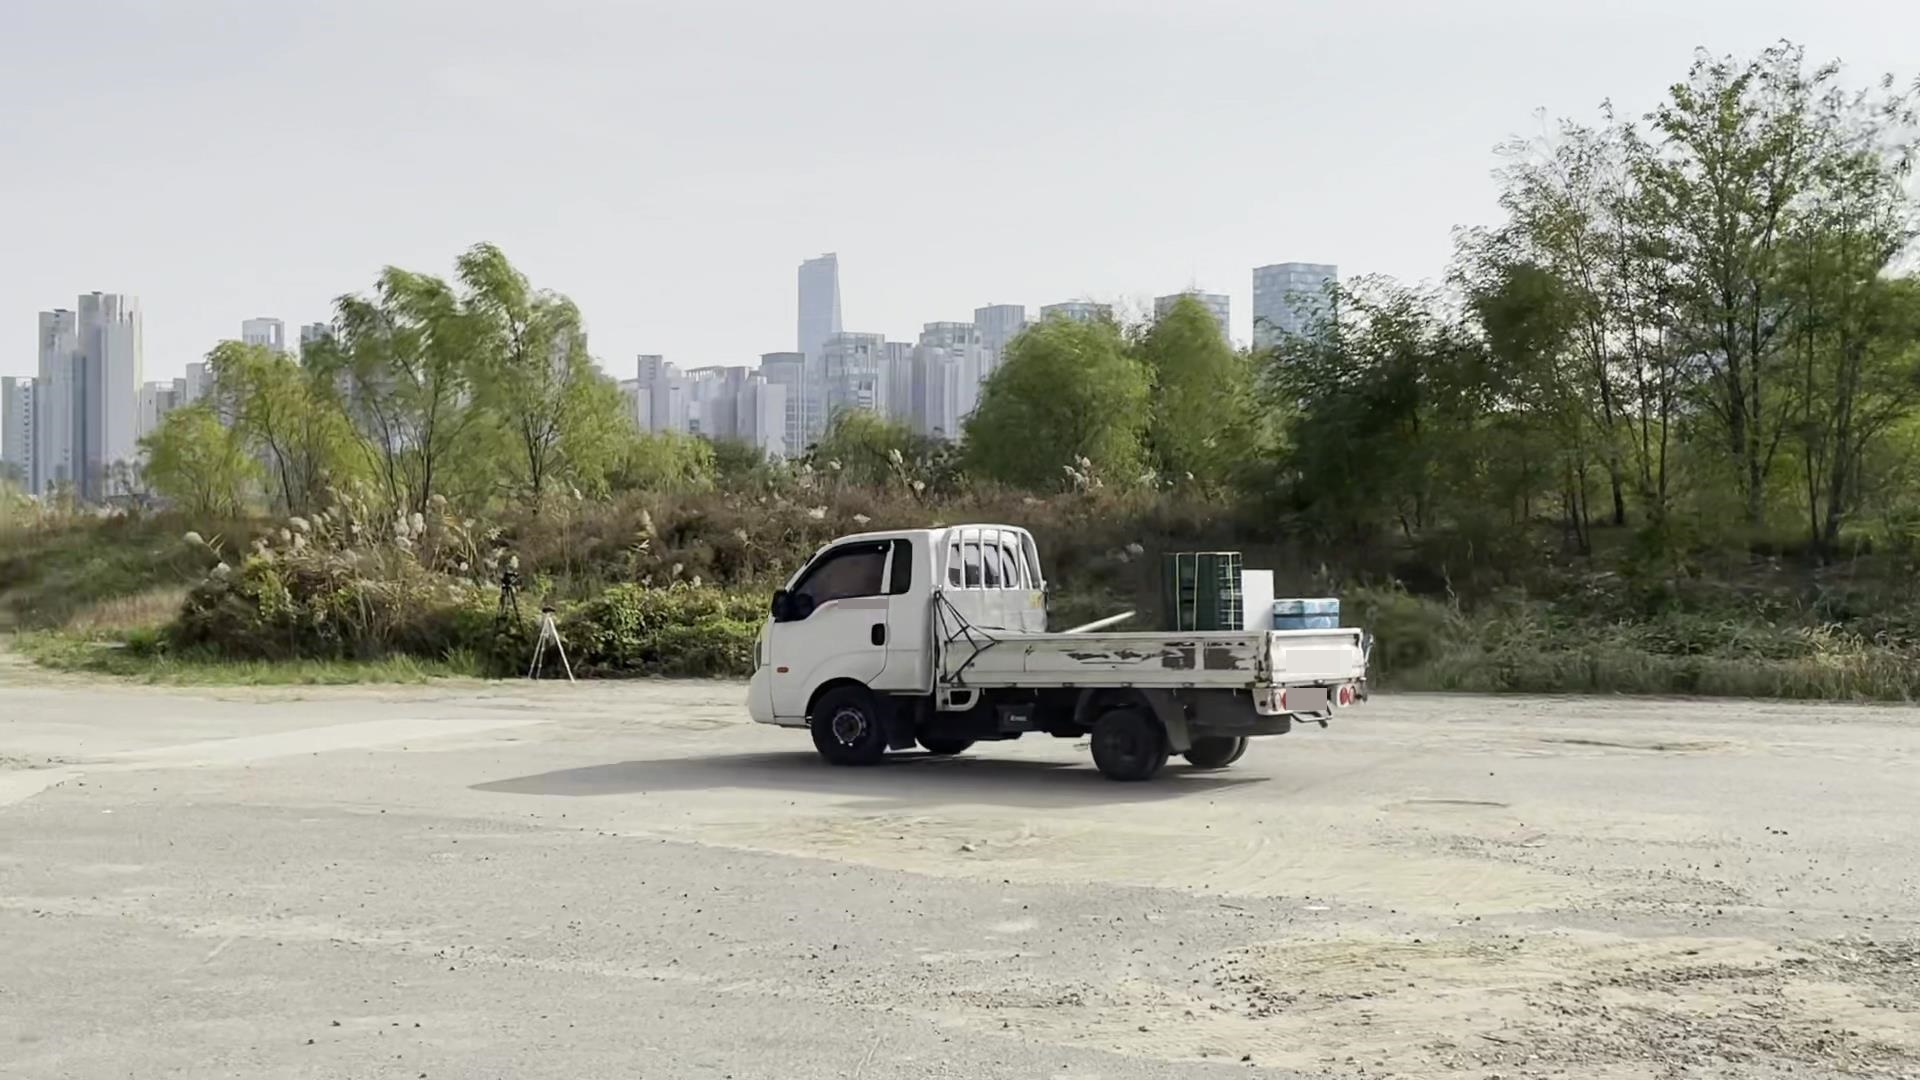불법차량: (748, 524, 1375, 781)
